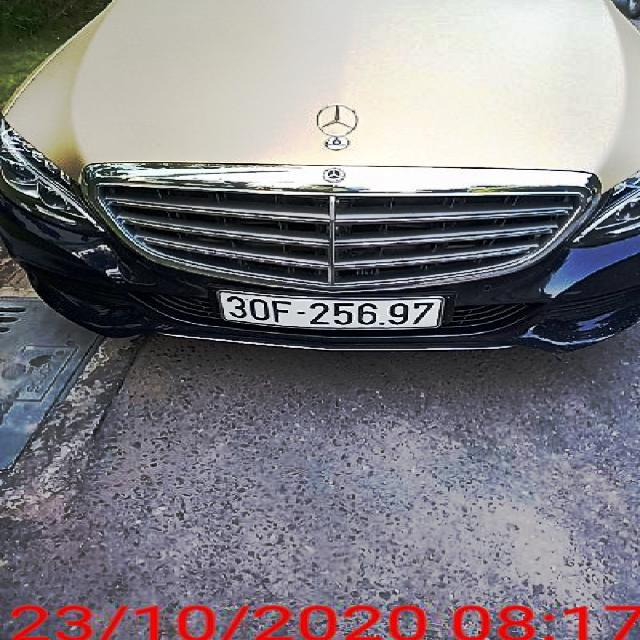license_plate: (225, 291, 446, 333)
